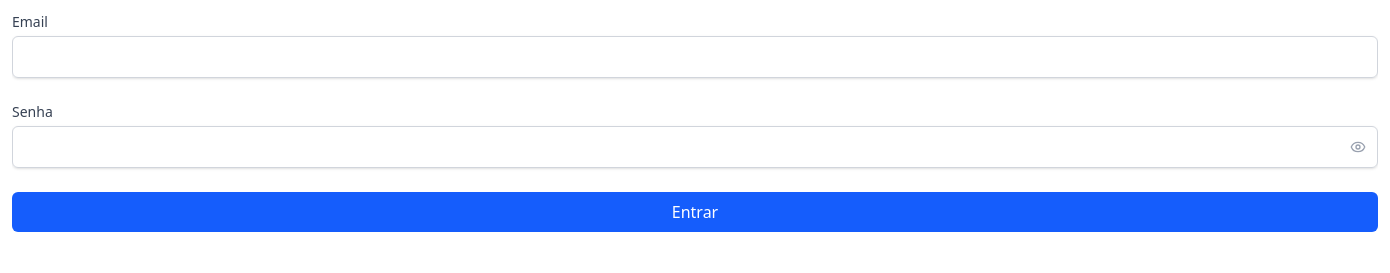
Test case: LoginForm › validates email format
Type "invalid-email" into the field labelled "Email" at (695, 57), box [12,36,1378,78]
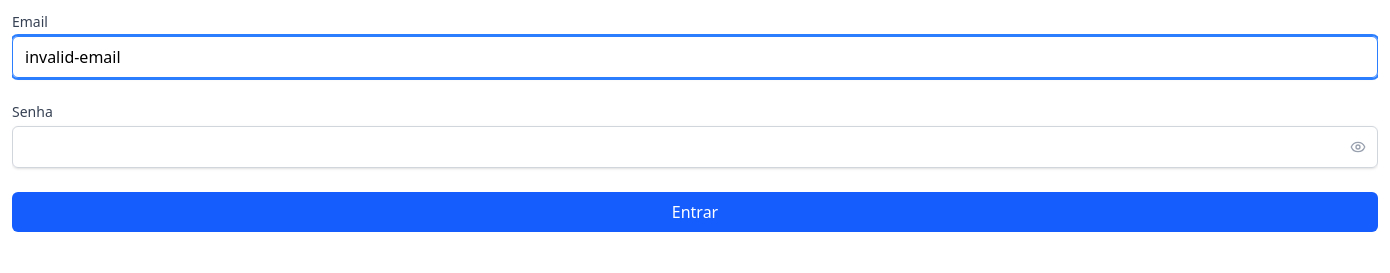
Type "password123" into the field labelled "Senha" at (695, 147), box [12,126,1378,168]
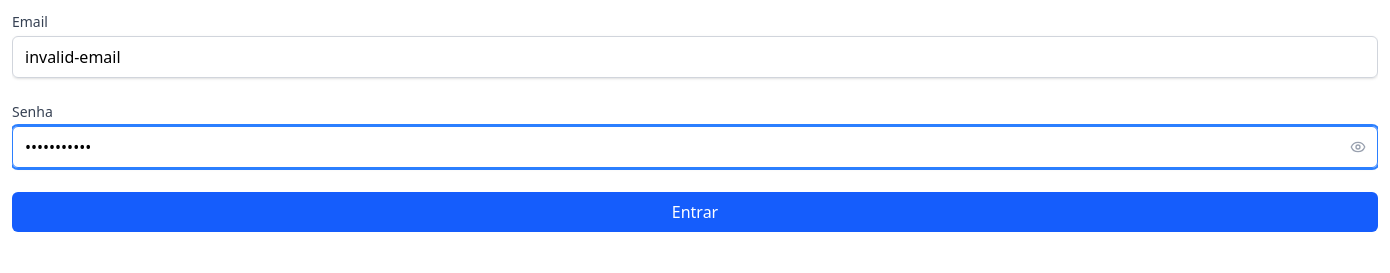
Submit the form
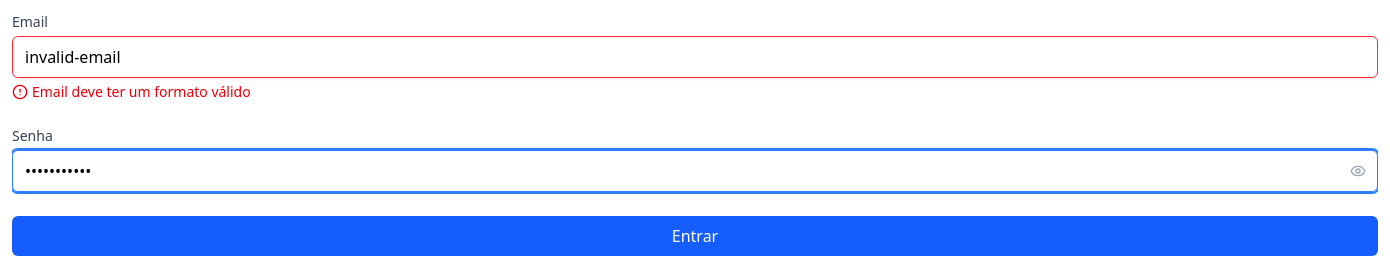
Expected: the text "Email deve ter um formato válido" is shown, [12,82,251,101]
